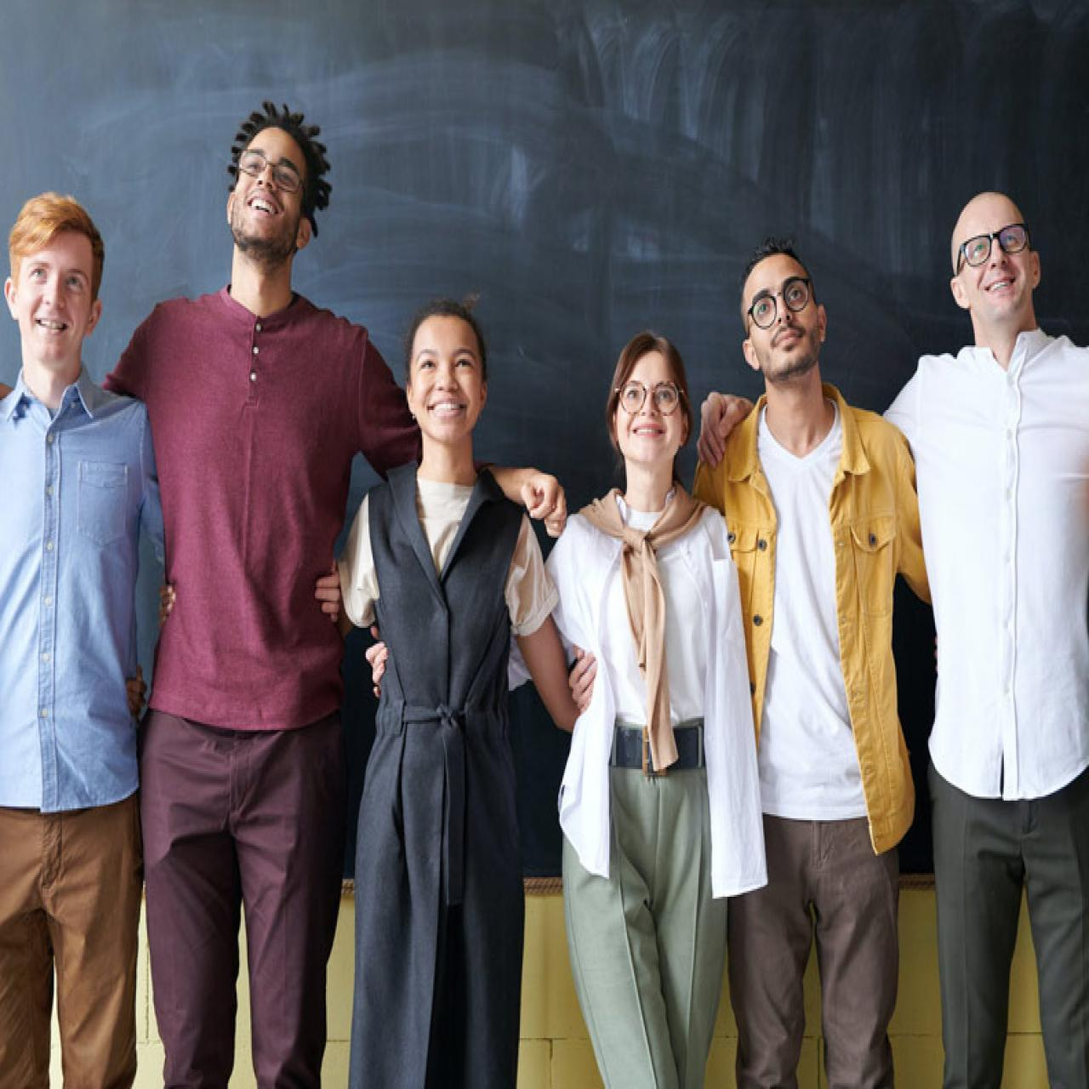NO_Safety_Vest: (157, 302, 357, 756), (718, 408, 892, 815), (921, 361, 1082, 752), (0, 397, 150, 791), (369, 491, 520, 861), (572, 510, 721, 742)
Person: (135, 94, 416, 1089), (693, 216, 929, 1089), (877, 165, 1089, 1089), (338, 267, 573, 1089), (525, 299, 750, 1089), (0, 152, 179, 1076)
